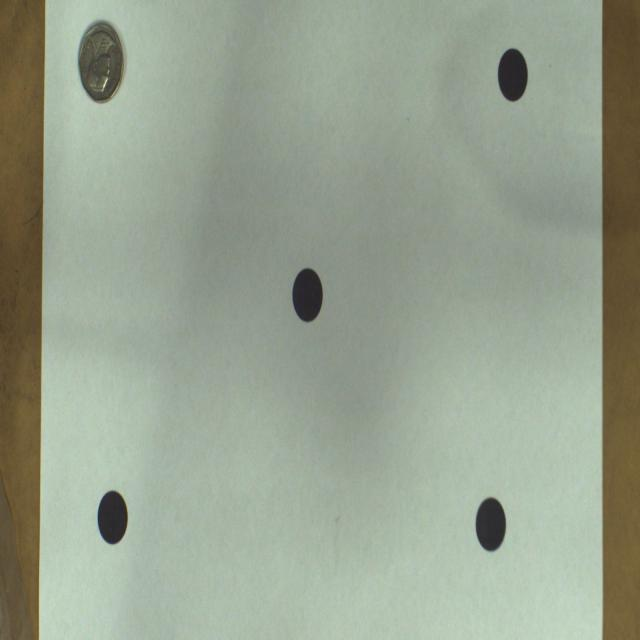head5bath: (79, 22, 124, 102)
space: (476, 498, 506, 551), (98, 491, 128, 544), (292, 269, 322, 322), (499, 49, 528, 100)
